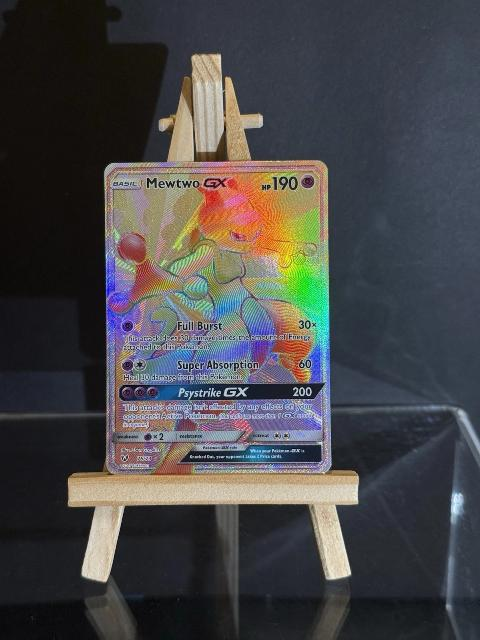Card: (100, 156, 336, 478)
Name: (143, 173, 231, 191)
